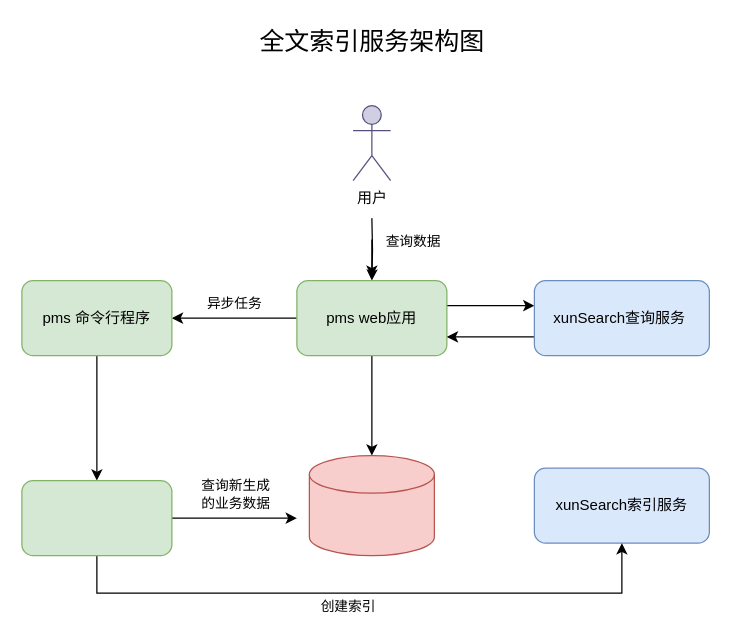
Some shapes in this 731 by 635 pixel diagram are drawn without their labels. Here are the shapes that lost their labels. From the top down, the centre of each, then its label:
At point (96, 517): "定时任务 建立索引数据".
At point (371, 505): "数据库".
